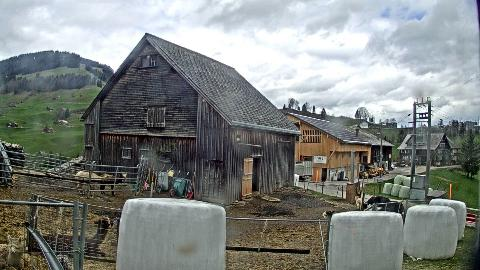car: (391, 164, 395, 170)
sheep: (33, 216, 116, 258), (74, 171, 112, 195), (0, 236, 26, 270), (98, 172, 128, 196), (52, 254, 72, 270), (368, 196, 388, 210), (385, 201, 403, 216), (398, 201, 412, 217), (322, 210, 336, 220), (355, 195, 363, 212)
